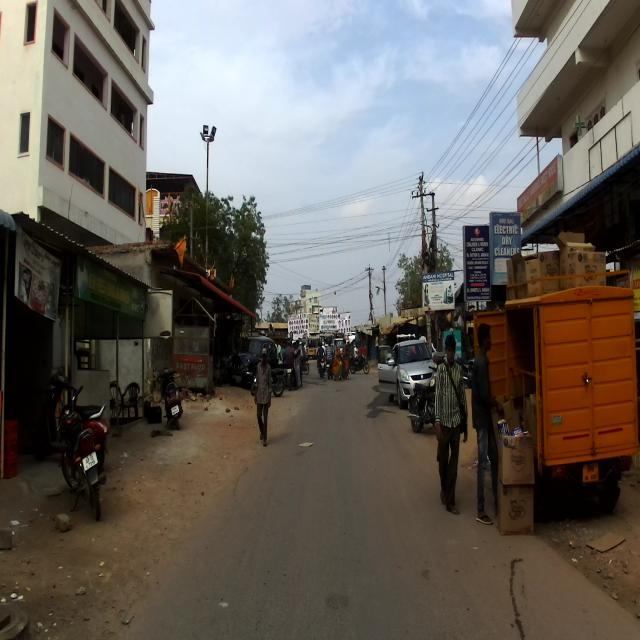motorcycle ahead at: (51, 382, 107, 519)
person ahead at: (430, 328, 466, 520)
truck ahead at: (479, 299, 640, 539)
